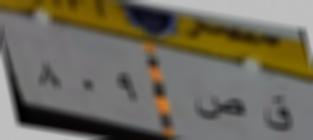0: (79, 68, 100, 101)
8: (30, 58, 63, 98)
9: (108, 69, 144, 107)
qaaf: (260, 92, 295, 138)
saad: (190, 94, 246, 127)
